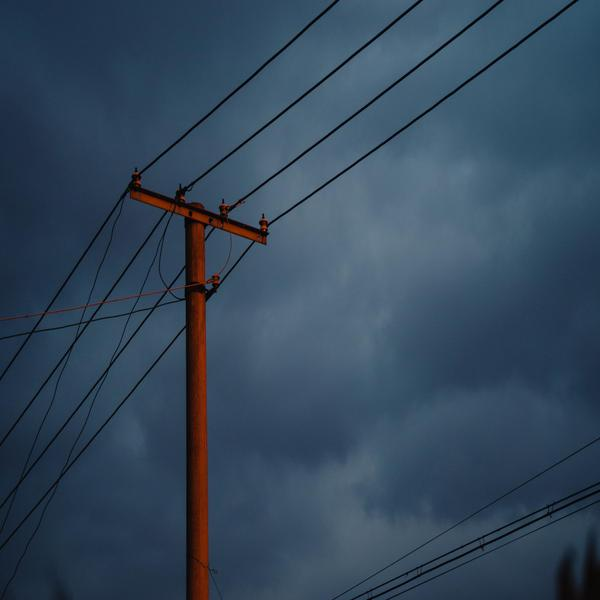utility_pole: (103, 150, 277, 345)
